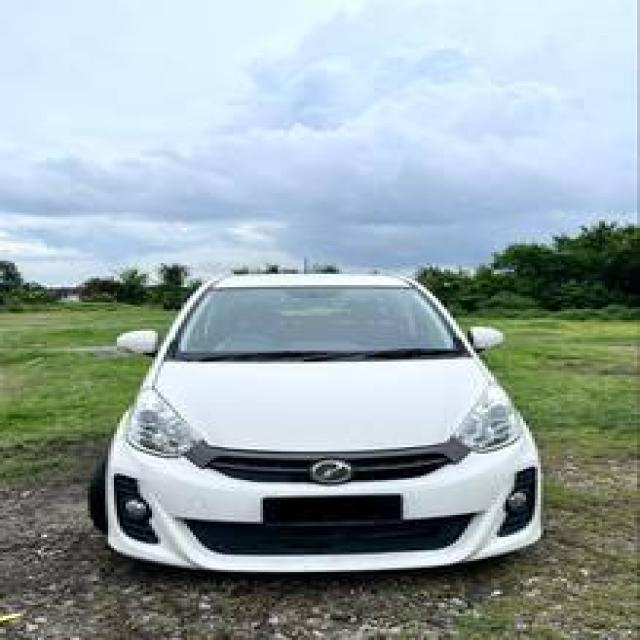PeroduaMyvi: (85, 265, 546, 574)
